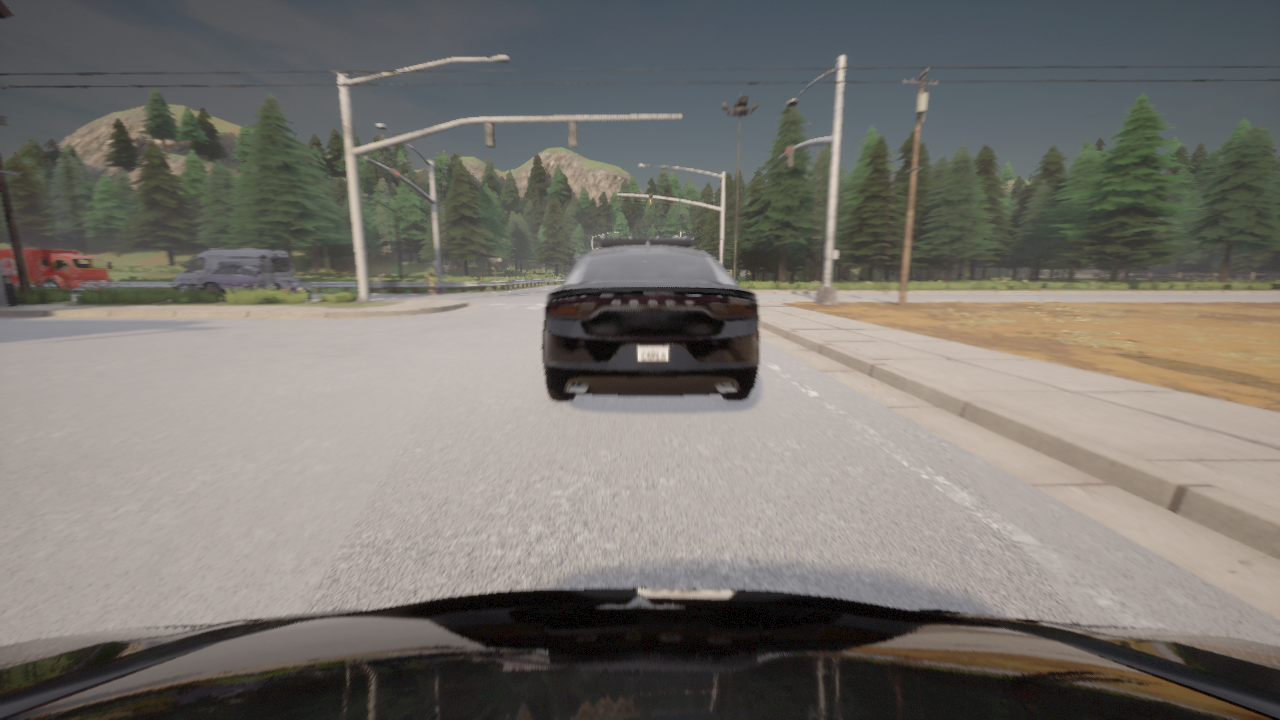cyclist: (0, 588, 1279, 719), (543, 236, 758, 399), (172, 249, 293, 292), (0, 248, 116, 292), (197, 265, 310, 295)
pedestrian: (254, 255, 276, 289), (424, 273, 438, 299)
